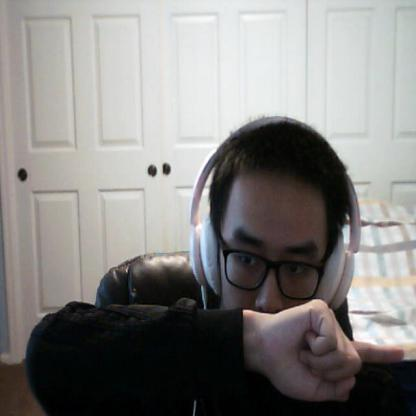finger_point: (342, 331, 408, 372)
